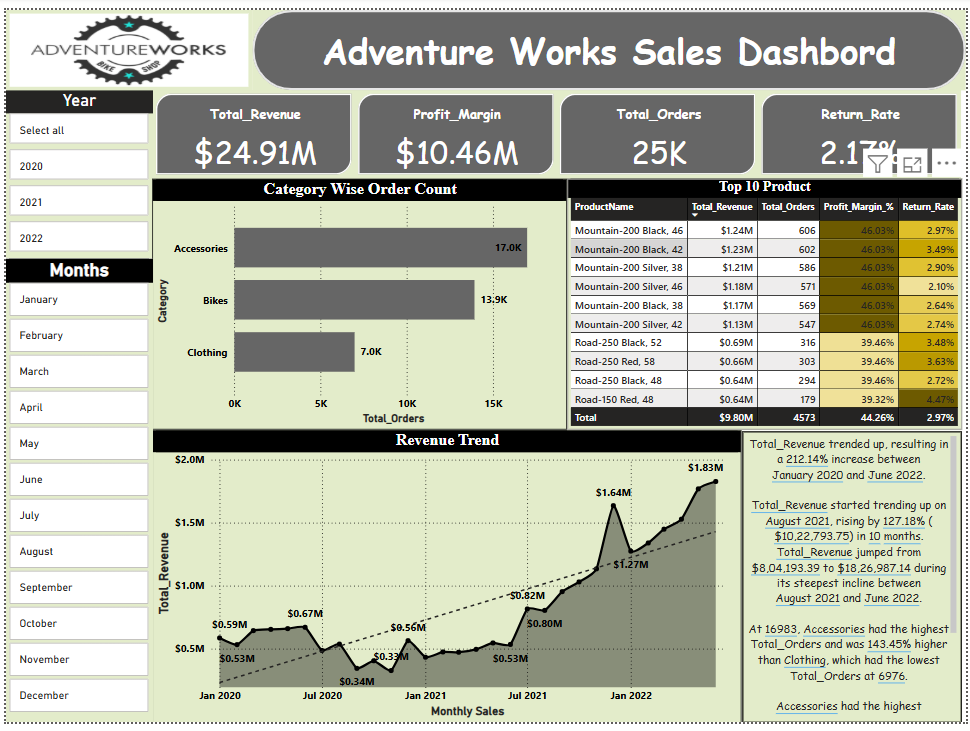

This screenshot's page, from the dashboard's own definition file:
{"tool":"powerbi","page":{"name":" Dashboard","canvas":[1280,950],"ordinal":5},"visuals":[{"type":"cardVisual","fields":{"Data":["Measure_Table.Total_Revenue","Measure_Table.Profit_Margin","Measure_Table.Total_Orders","Measure_Table.Return_Rate"]},"box":[195.7,107.1,1078.6,118.6],"z":0},{"type":"shape","box":[328.6,0,951.4,107.1],"z":1000},{"type":"advancedSlicerVisual","fields":{"Values":["Calendar Lookup.Date.Variation.Date Hierarchy.Year"]},"box":[0,107.1,195.7,224.3],"z":2000},{"type":"clusteredBarChart","title":"Category Wise Order Count","fields":{"Category":["Product Categories Lookup.CategoryName"],"Y":["Measure_Table.Total_Orders"]},"box":[195.7,225.7,552.9,334.3],"z":3000},{"type":"lineChart","title":"Revenue Trend","fields":{"Y":["Measure_Table.Total_Revenue"],"Category":["Calendar Lookup.Date.Variation.Date Hierarchy.Year","Calendar Lookup.Date.Variation.Date Hierarchy.Month"]},"box":[195.7,560,785.7,390],"z":4000},{"type":"pivotTable","title":"Top 10 Product","fields":{"Rows":["Product Lookup.ProductName"],"Values":["Measure_Table.Total_Revenue","Measure_Table.Total_Orders","Measure_Table.Profit_Margin_%","Measure_Table.Return_Rate"]},"box":[748.6,225.7,526,335],"z":5000},{"type":"image","box":[0,0,328.6,107.1],"z":6000},{"type":"advancedSlicerVisual","title":"Months","fields":{"Values":["Calendar Lookup.Date.Variation.Date Hierarchy.Month"]},"box":[0,331.4,195.7,618.6],"z":7000},{"type":"textbox","box":[981.4,561.4,292.9,388.6],"z":8000}]}

Visuals, with their boxes in screenshot pixels (x1, y1, x2, y2), scaled from the page's 1280x950 canvas onto the 970x731 screenshot:
cardVisual - Measure_Table.Total_Revenue x Measure_Table.Profit_Margin: {"x1": 148, "y1": 82, "x2": 966, "y2": 174}
shape: {"x1": 249, "y1": 0, "x2": 969, "y2": 82}
advancedSlicerVisual - Calendar Lookup.Date.Variation.Date Hierarchy.Year: {"x1": 0, "y1": 82, "x2": 148, "y2": 255}
"Category Wise Order Count" clusteredBarChart: {"x1": 148, "y1": 174, "x2": 567, "y2": 431}
"Revenue Trend" lineChart: {"x1": 148, "y1": 431, "x2": 744, "y2": 730}
"Top 10 Product" pivotTable: {"x1": 567, "y1": 174, "x2": 966, "y2": 431}
image: {"x1": 0, "y1": 0, "x2": 249, "y2": 82}
"Months" advancedSlicerVisual: {"x1": 0, "y1": 255, "x2": 148, "y2": 730}
textbox: {"x1": 744, "y1": 432, "x2": 966, "y2": 730}
